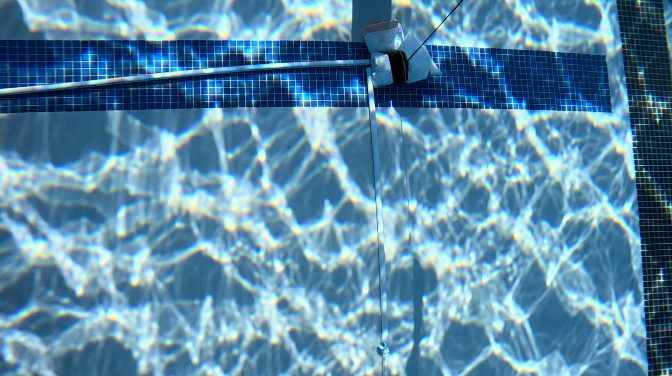sandbag: (361, 21, 437, 86)
